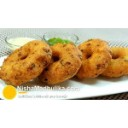vada: (1, 40, 50, 87), (45, 41, 82, 82), (77, 39, 110, 81), (107, 45, 128, 79)
